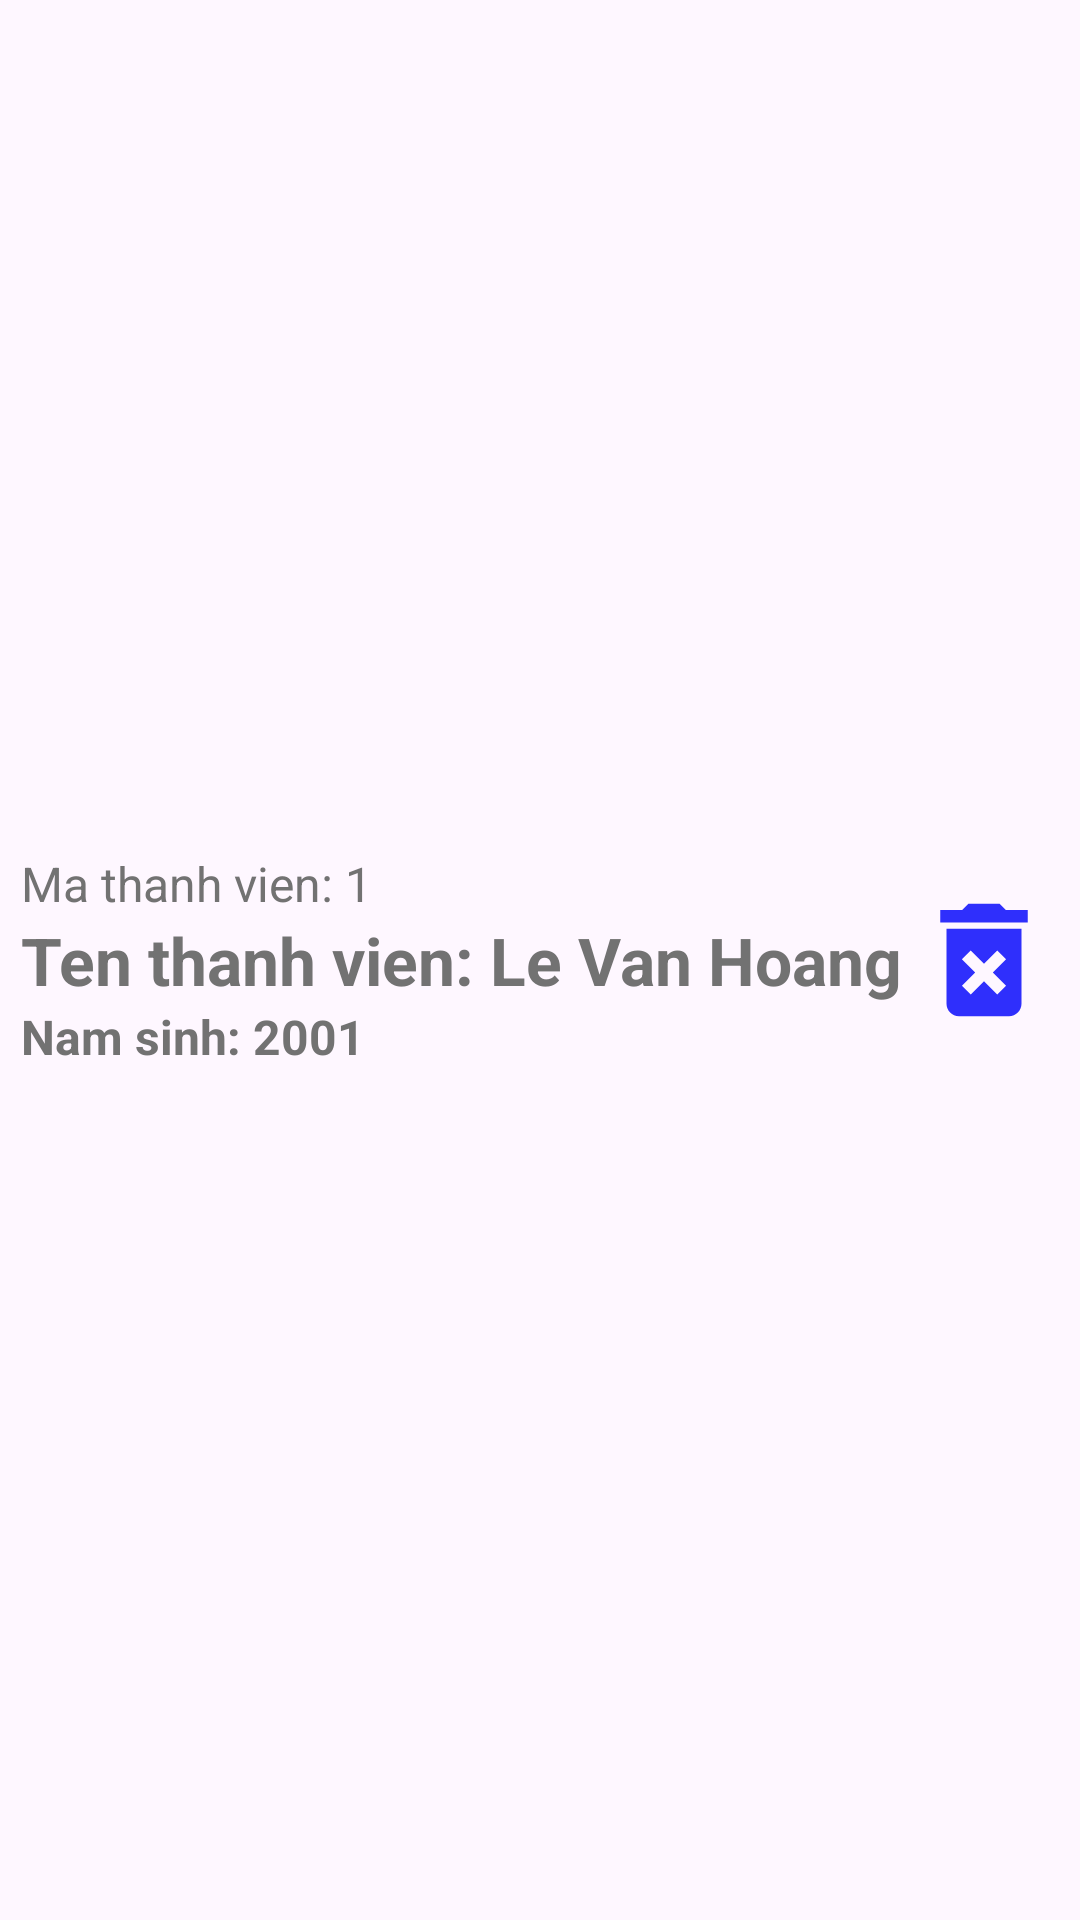

Where icons sit on this 1080px x 1920px app screen, as bbox(x1, y1, x2, y2):
delete forever: bbox(940, 903, 1028, 1017)
